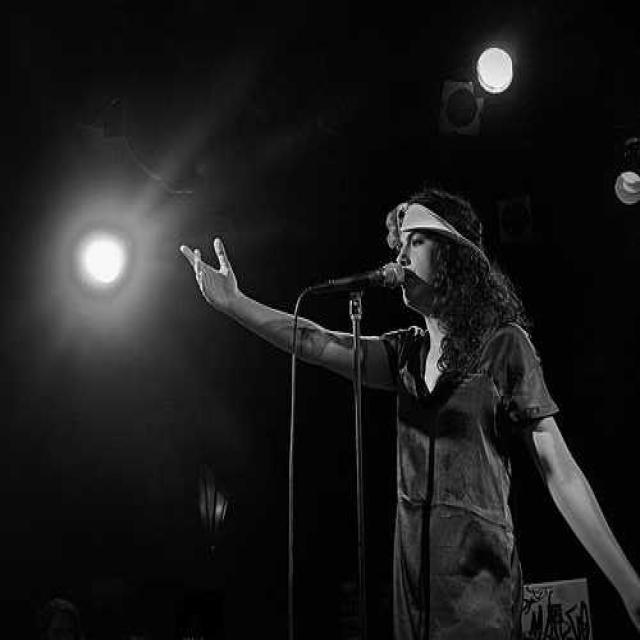microphone: (307, 252, 412, 306)
